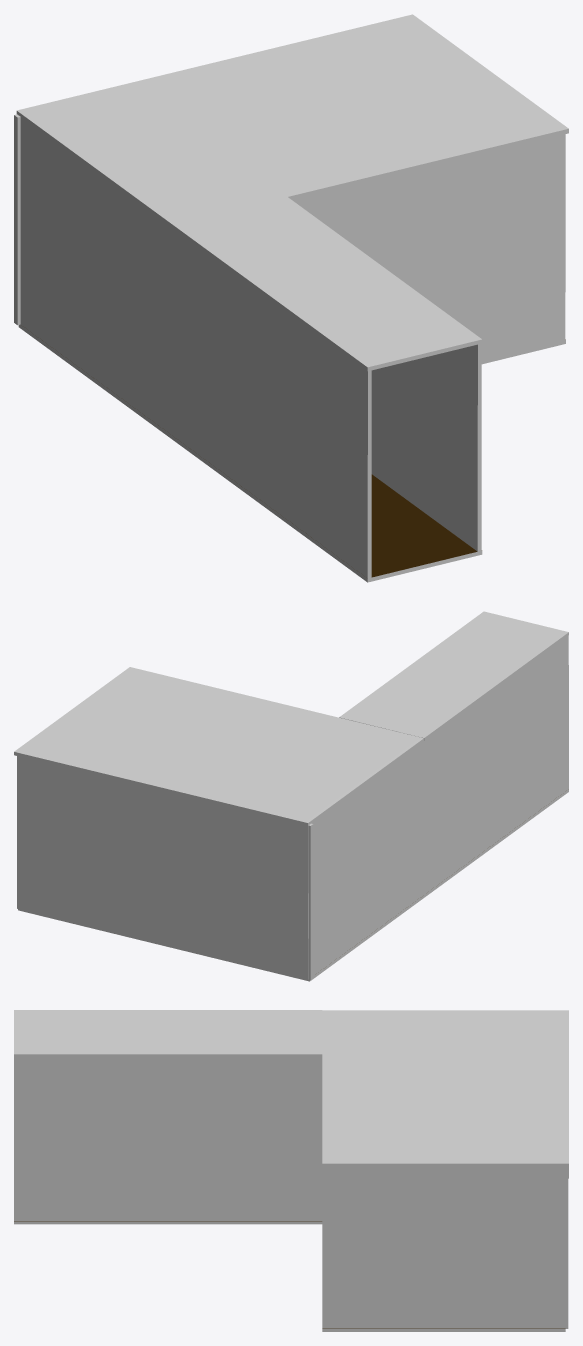
The model's file is xxxxxxxefwsf.fbx.
3 renders of one model, top to bottom at view 1: azimuth 30°, elevation 25°; view 2: azimuth 150°, elevation 25°; view 3: azimuth 270°, elevation 25°, orthographic. The views are drawn at different scales.
Visible parts, largest first — view 1: Cube; view 2: Cube; view 3: Cube.
Boxes of the visible parts, x1=… form: Cube: x1=14, y1=14, x2=568, y2=582; Cube: x1=14, y1=611, x2=568, y2=981; Cube: x1=14, y1=1010, x2=568, y2=1331.
Bounding box in the file's own units: 1563 × 805 × 2381.
